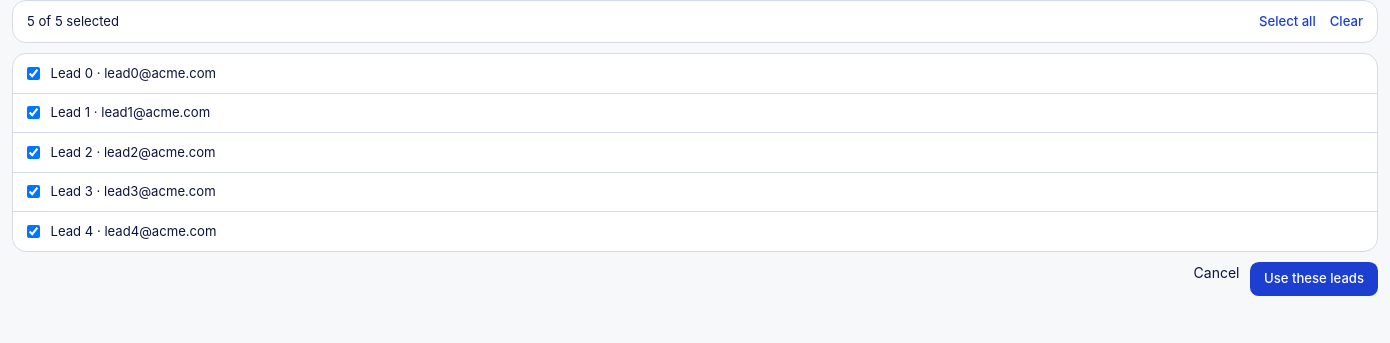
Test case: AdsLeadsSelector › Clear deselects everyone and warns; Select all restores everyone
Click the button "Clear": click(1346, 21) [1330,12,1363,31]
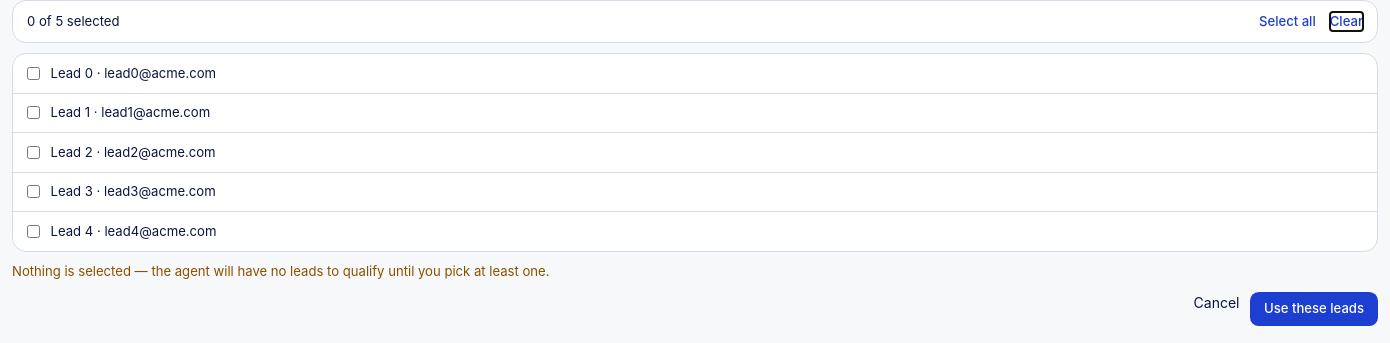
Check: the text "0 of 5 selected" is shown, box [27,12,120,31]
Check: the text "Nothing is selected" is shown, box [12,263,550,279]
Click the button "Select all": click(1287, 21) [1259,12,1316,31]
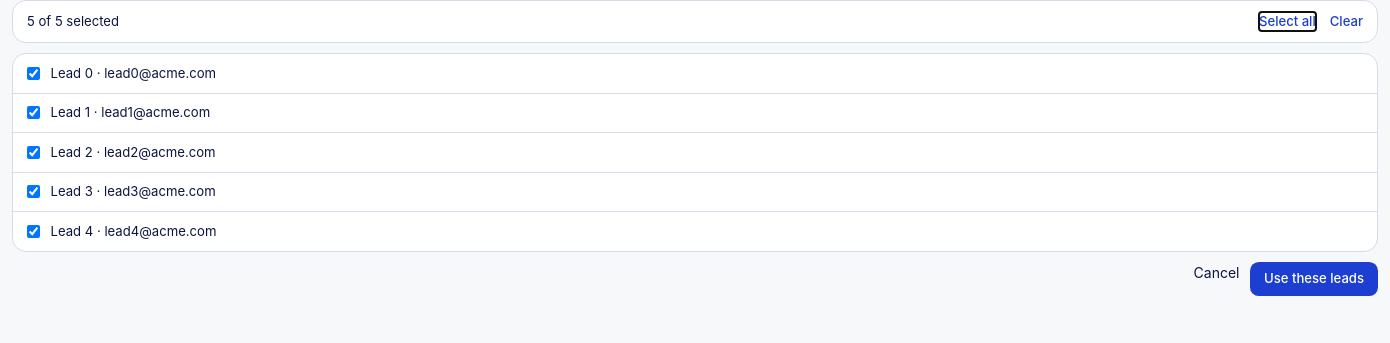
Check: the text "5 of 5 selected" is shown, box [27,12,119,31]
